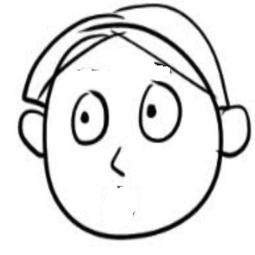ear: (214, 103, 255, 158), (16, 107, 51, 159)
eye: (138, 77, 188, 150), (64, 89, 112, 148)
pointy_nose: (106, 145, 129, 183)
